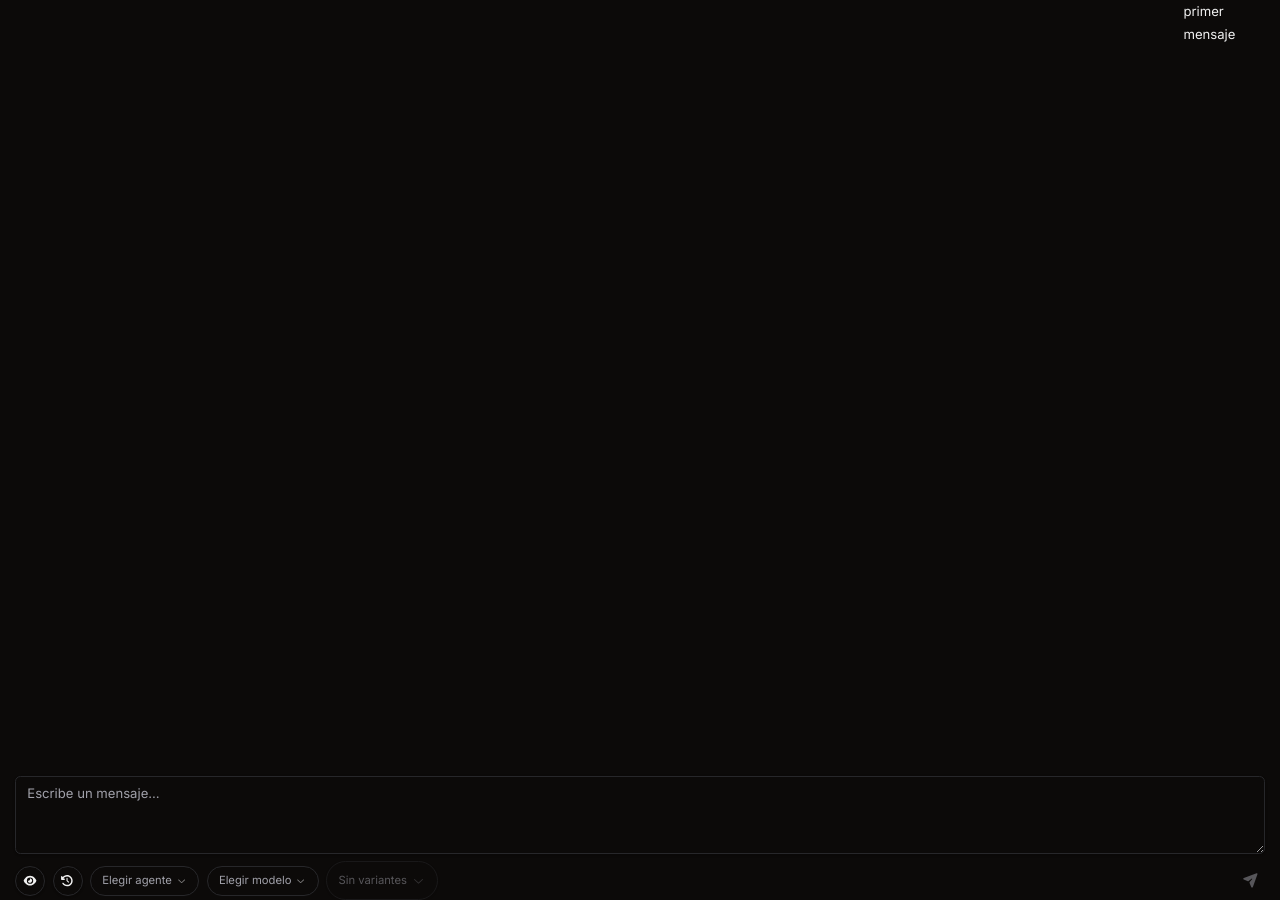
ChatPanel — historial en modal (U2) › cierra el modal con Escape (estado del panel)
This screenshot has width=1280, height=900.
Click the button named "Historial de mensajes" at (68, 880), box [52,866,82,896]
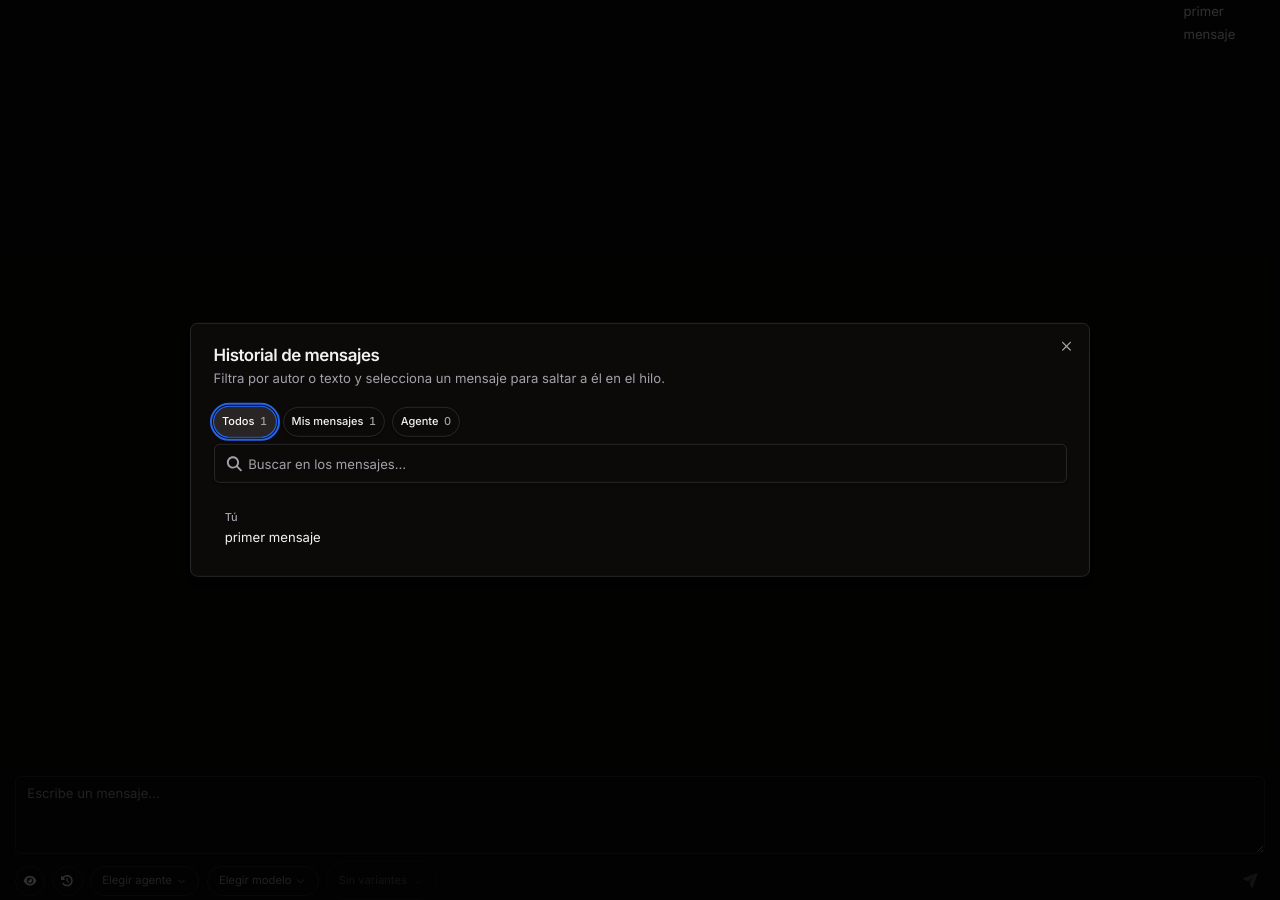
Expected: the dialog "Historial de mensajes" is shown, [190,323,1090,577]
Press Escape
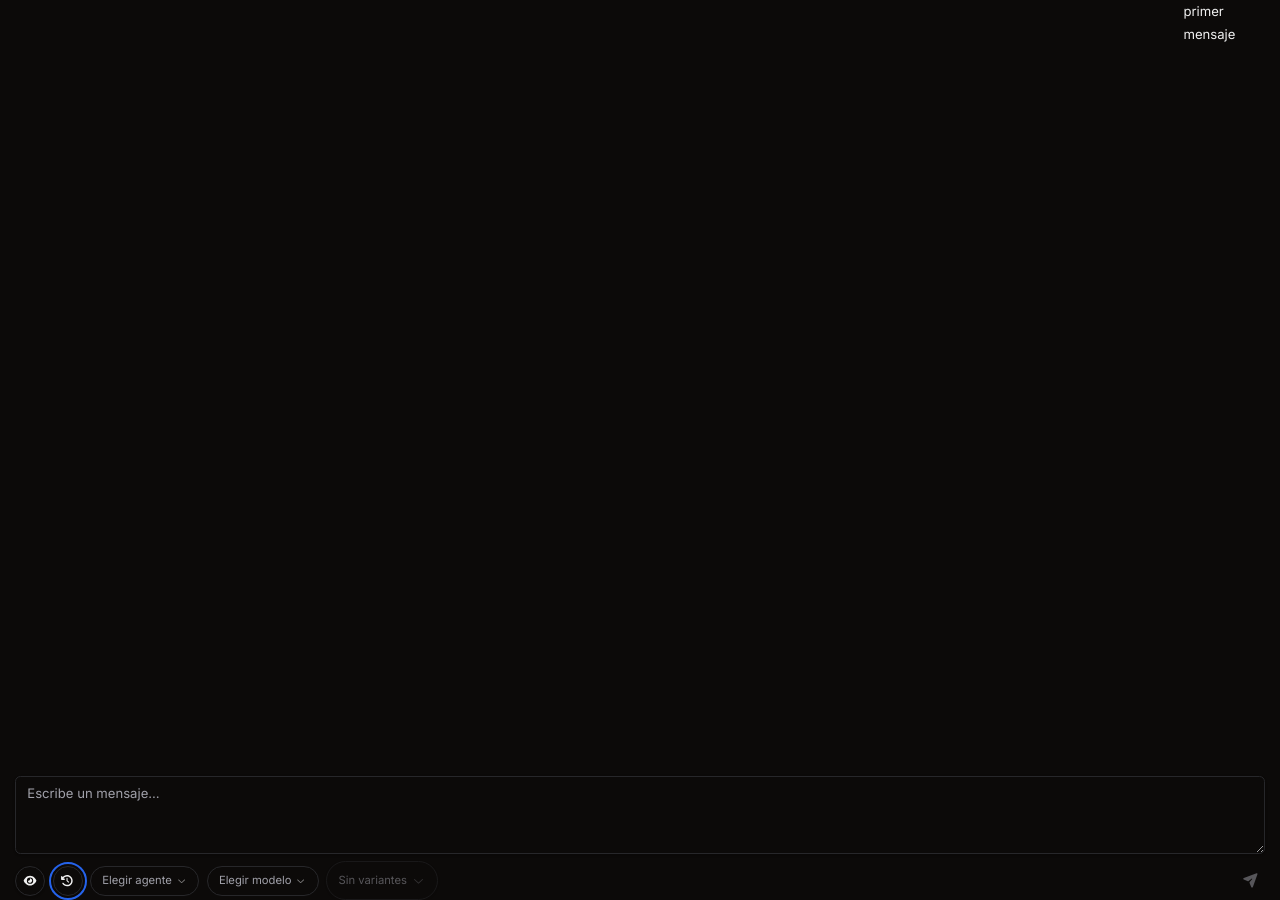
Expected: the dialog is gone
